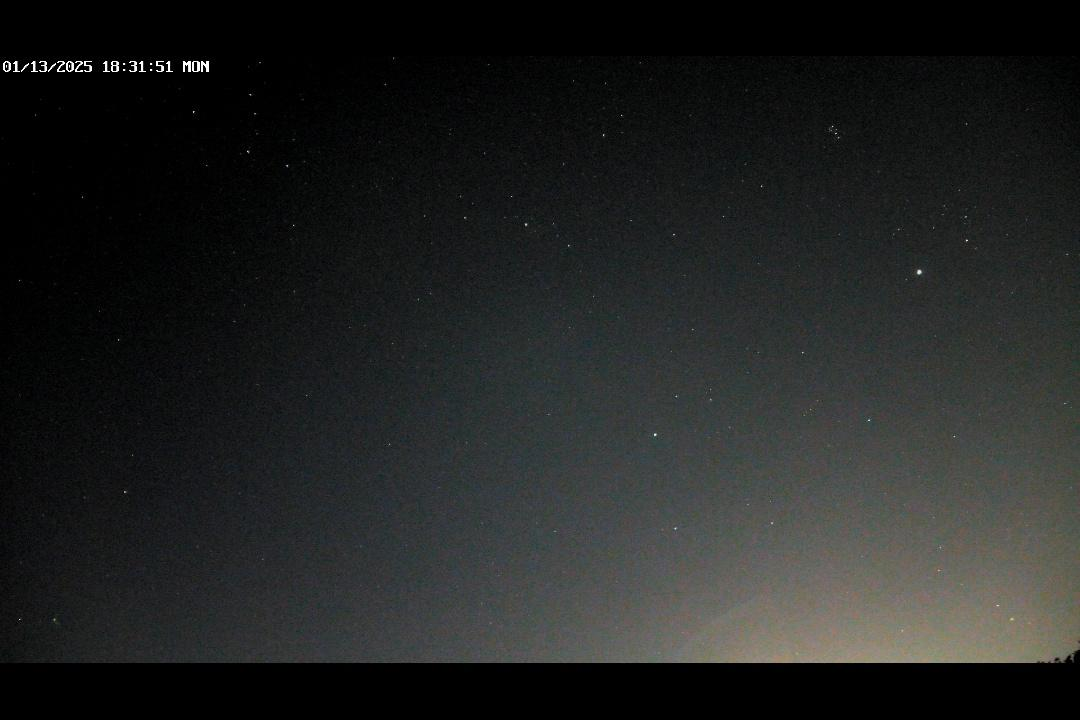Plane: (50, 605, 71, 637)
